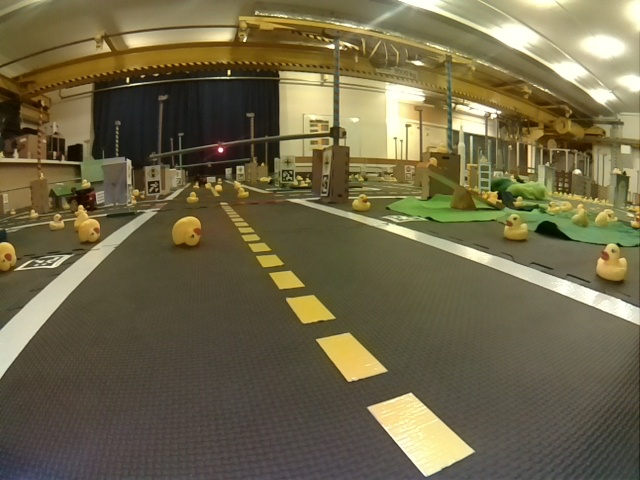Duckie: (596, 244, 626, 282), (172, 217, 203, 247), (504, 215, 529, 240), (79, 219, 100, 242), (3, 245, 18, 272), (352, 194, 366, 209), (49, 214, 61, 228), (187, 192, 196, 202), (81, 180, 91, 189), (237, 188, 244, 195), (30, 209, 38, 213), (216, 185, 219, 191)
QR code: (18, 255, 73, 270), (149, 182, 161, 193), (284, 172, 289, 179)
